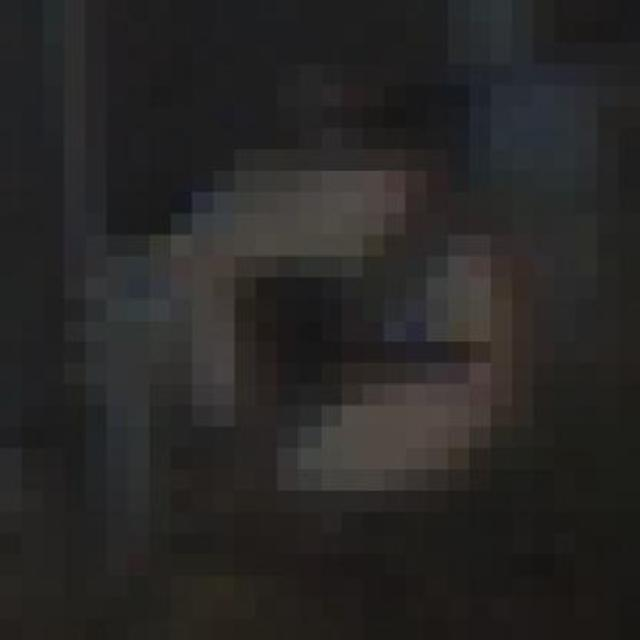Overtaking by trucks is prohibited: (149, 106, 534, 534)
